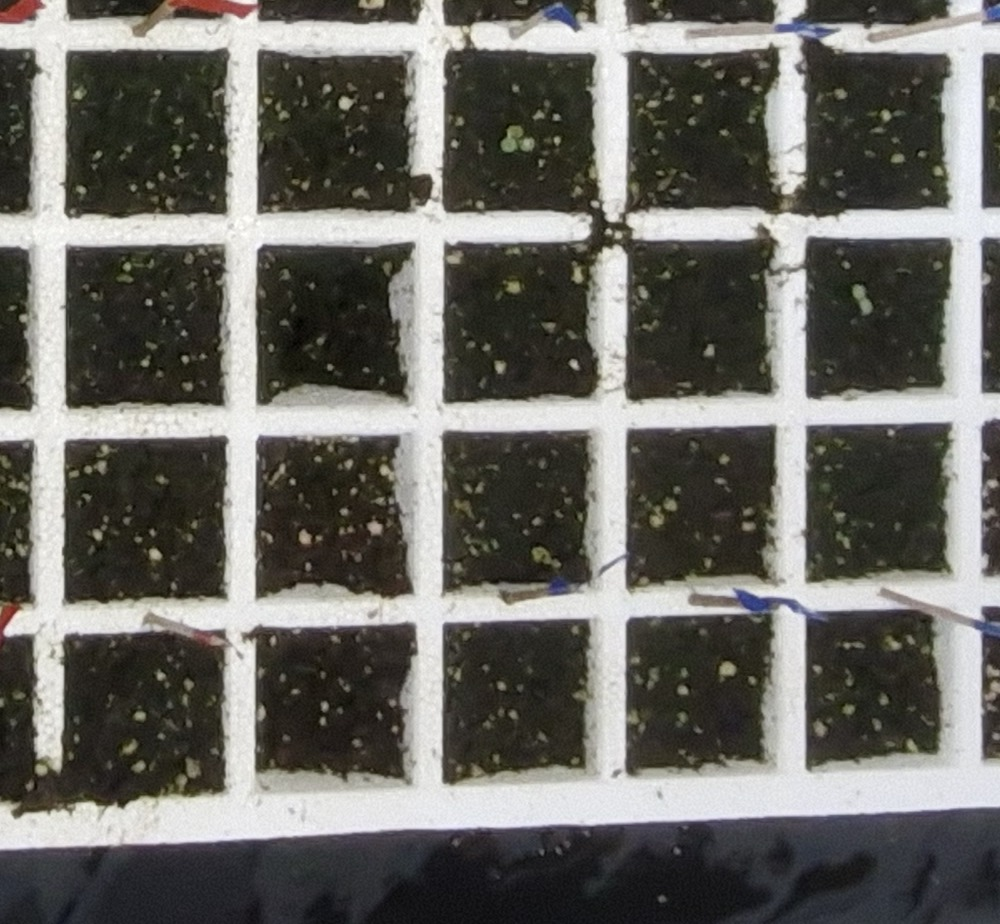Folha: (501, 137, 516, 153), (852, 284, 866, 301), (518, 138, 535, 151), (507, 126, 523, 139), (861, 299, 873, 313)
Germinacao: (500, 125, 535, 151), (854, 284, 873, 314)
